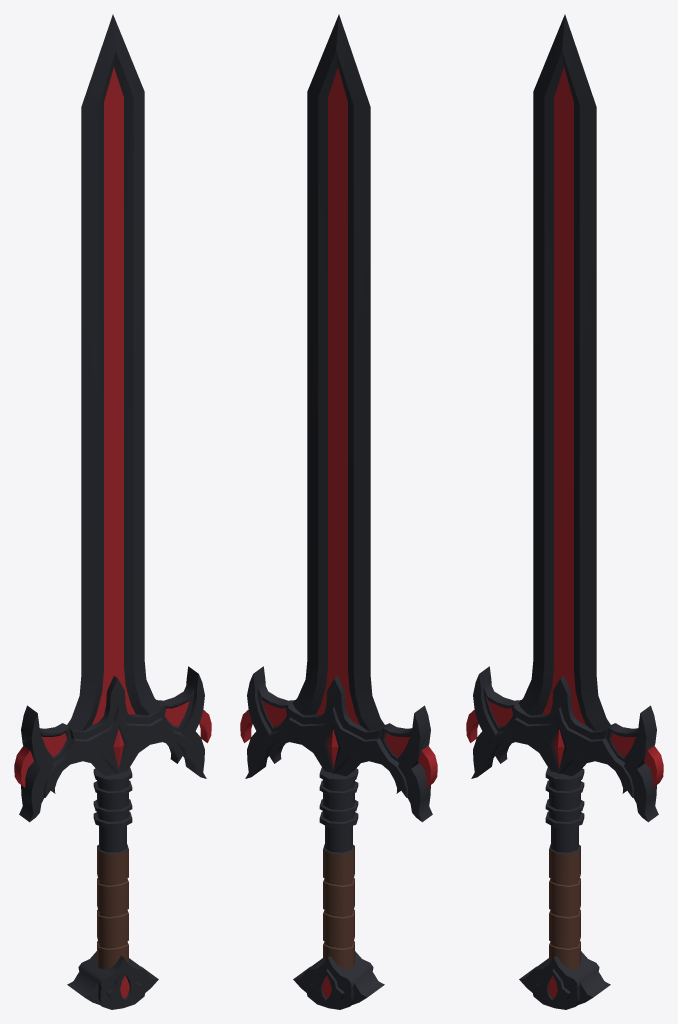
Rendered from DemonicSword.fbx.
The picture shows the model from 3 angles, left to right: view 1: azimuth 30°, elevation 25°; view 2: azimuth 150°, elevation 25°; view 3: azimuth 330°, elevation 25°; orthographic projection.
Visible parts, largest first — view 1: DemonicSword; view 2: DemonicSword; view 3: DemonicSword.
Boxes of the visible parts, x1,y1,x2,y2 form: DemonicSword: (14, 14, 211, 1009); DemonicSword: (240, 14, 437, 1009); DemonicSword: (466, 14, 663, 1009).
Size of the model in its own units: 35.74 by 177 by 8.24.
